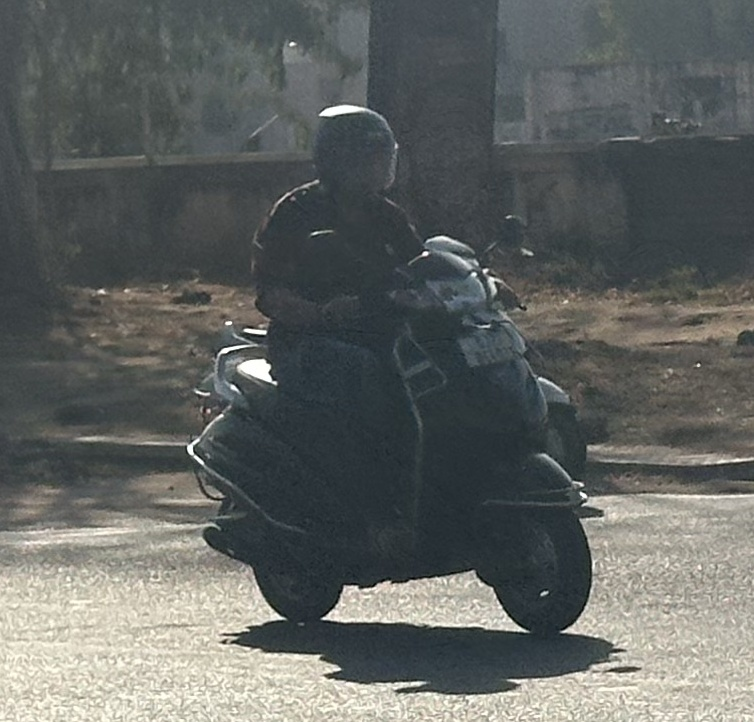BikeWithRider: (172, 91, 612, 643)
Helmet: (300, 95, 409, 210)
